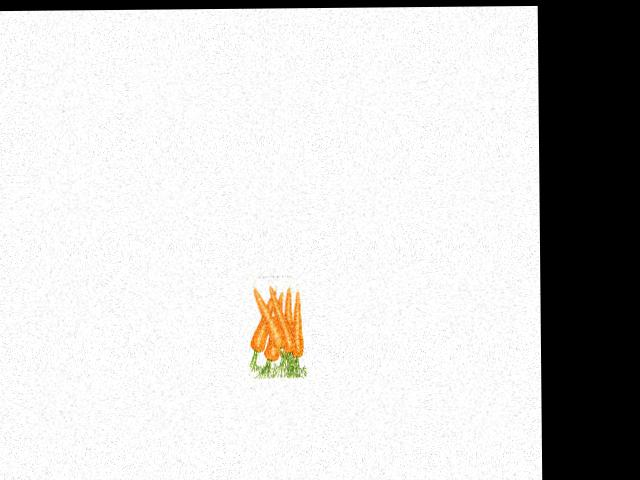carrot: (276, 278, 295, 353)
